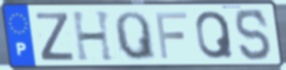F: (153, 11, 189, 61)
H: (70, 9, 116, 63)
Q: (113, 10, 159, 62), (194, 10, 235, 61)
S: (233, 7, 274, 63)
Z: (34, 11, 76, 63)
